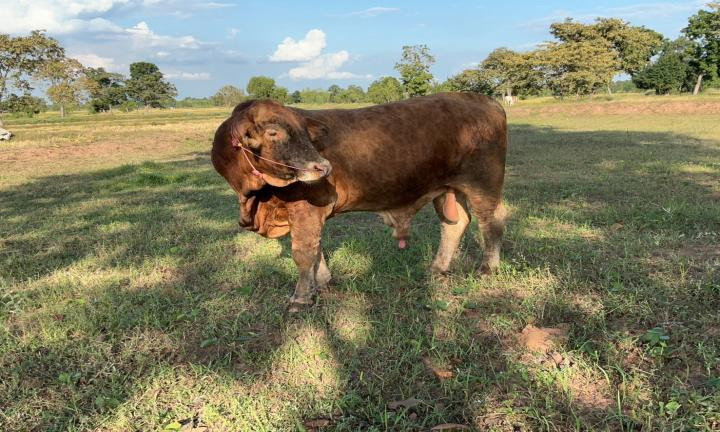Charolais: (212, 93, 507, 310)
